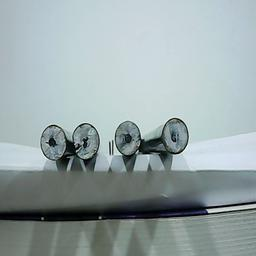pen: (37, 124, 68, 161), (71, 123, 100, 160), (162, 117, 190, 155), (114, 121, 143, 156)
